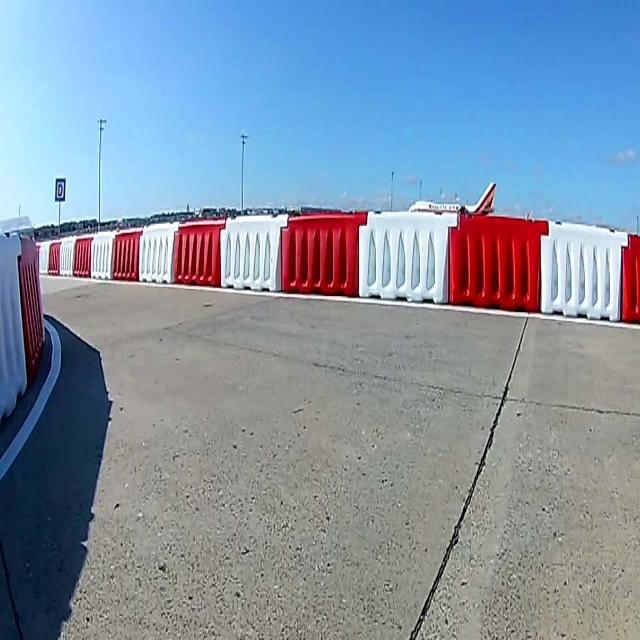durak: (55, 179, 65, 201)
